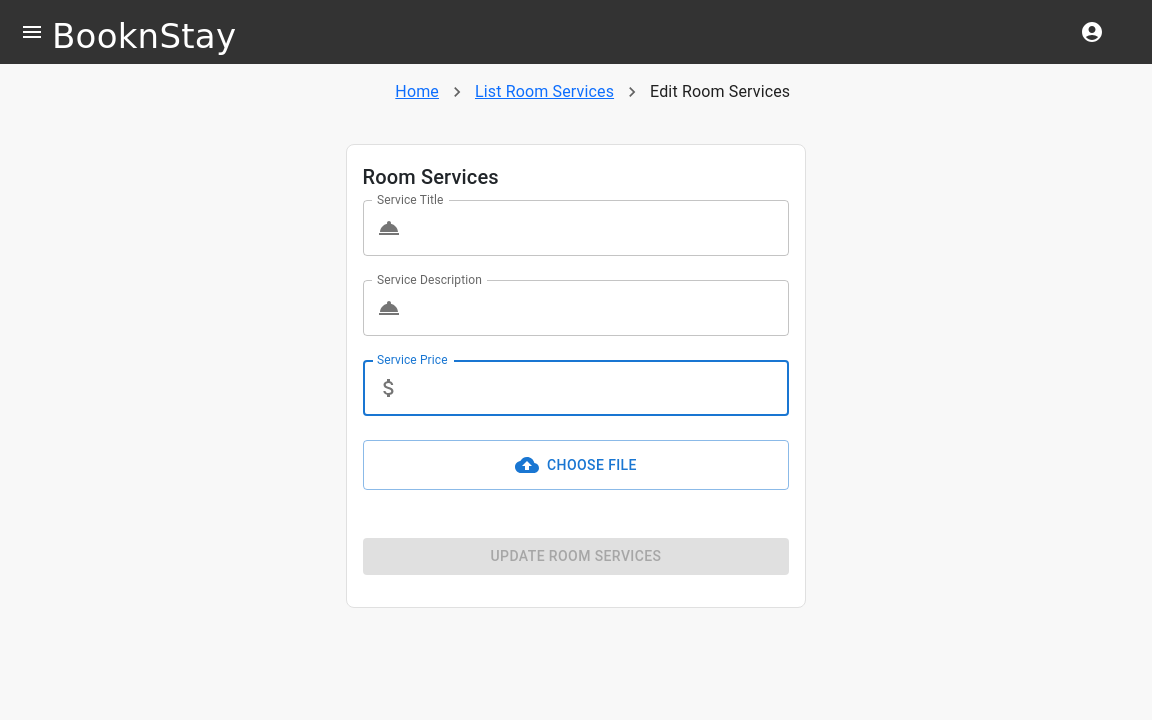
it: EditRoomDetails Component › handles service price with  invalid characters
Type "1200K" into the field labelled "Service Price".
click(599, 388); type("1200K")  # box [409,360,789,416]
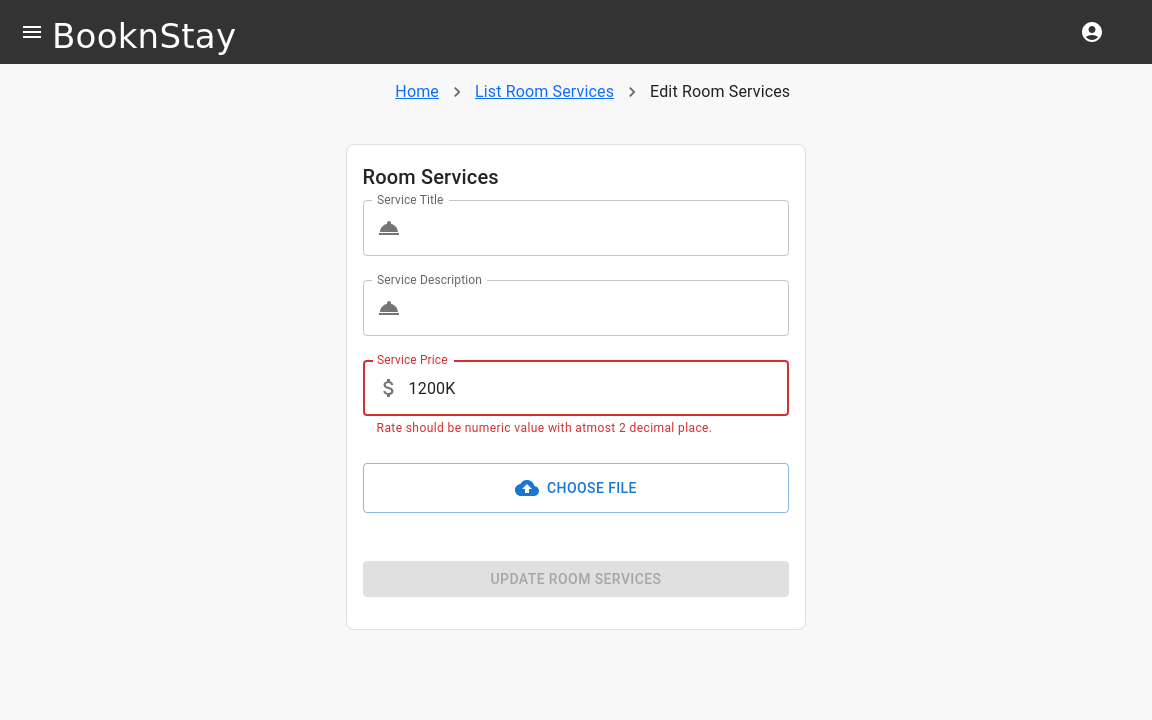
Now the text "Rate should be numeric value with atmost 2 decimal place." is shown, box [377,421,712,435]
